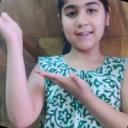hand: (34, 66, 90, 99), (0, 13, 25, 44)
